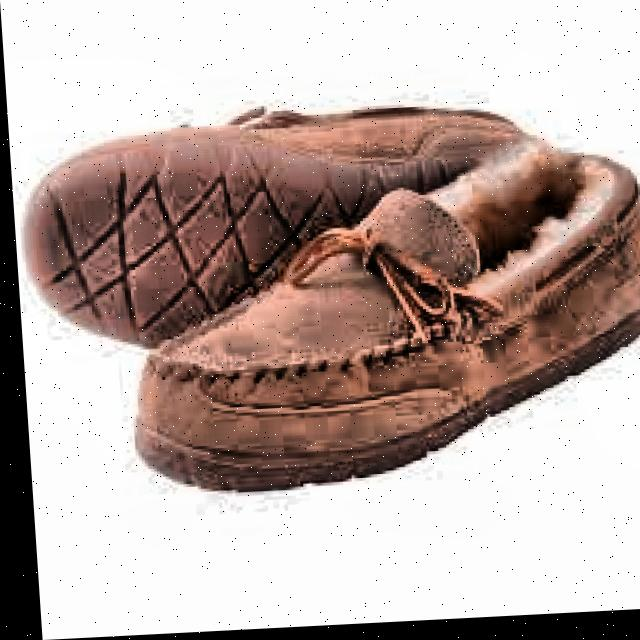shoes: (6, 52, 640, 514)
